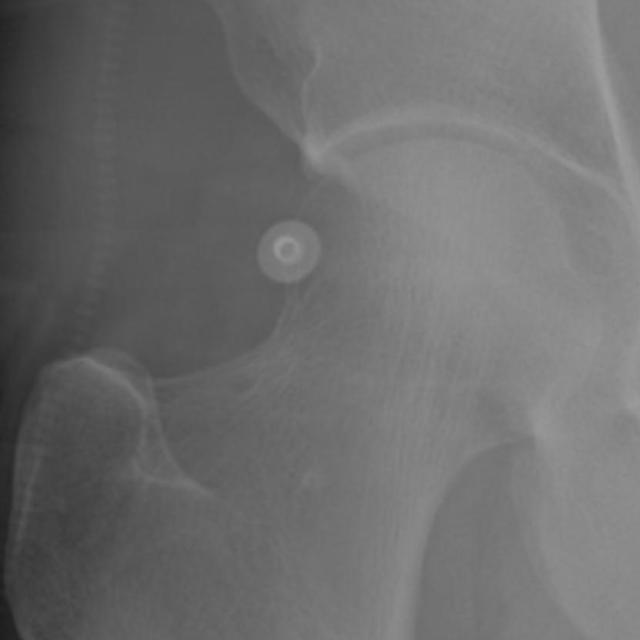Fitted_femural_head: (327, 142, 432, 327)
